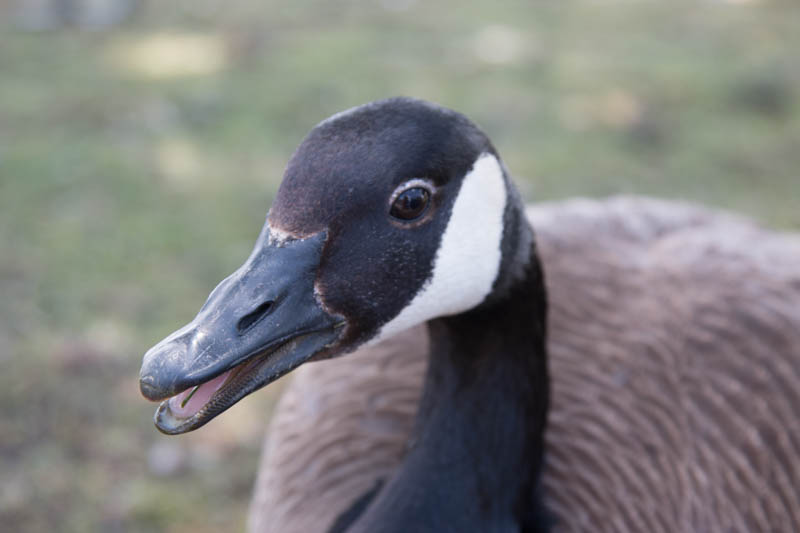goose-head: (136, 95, 537, 435)
